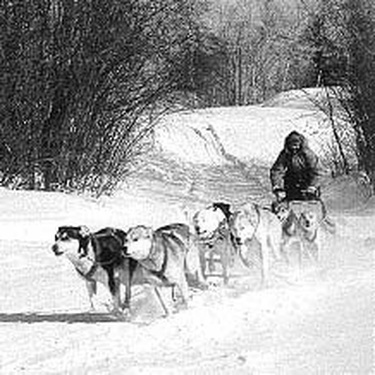dog: (26, 215, 142, 333), (107, 212, 219, 322), (210, 201, 284, 297), (165, 198, 241, 290), (260, 200, 313, 269), (286, 203, 326, 272)
